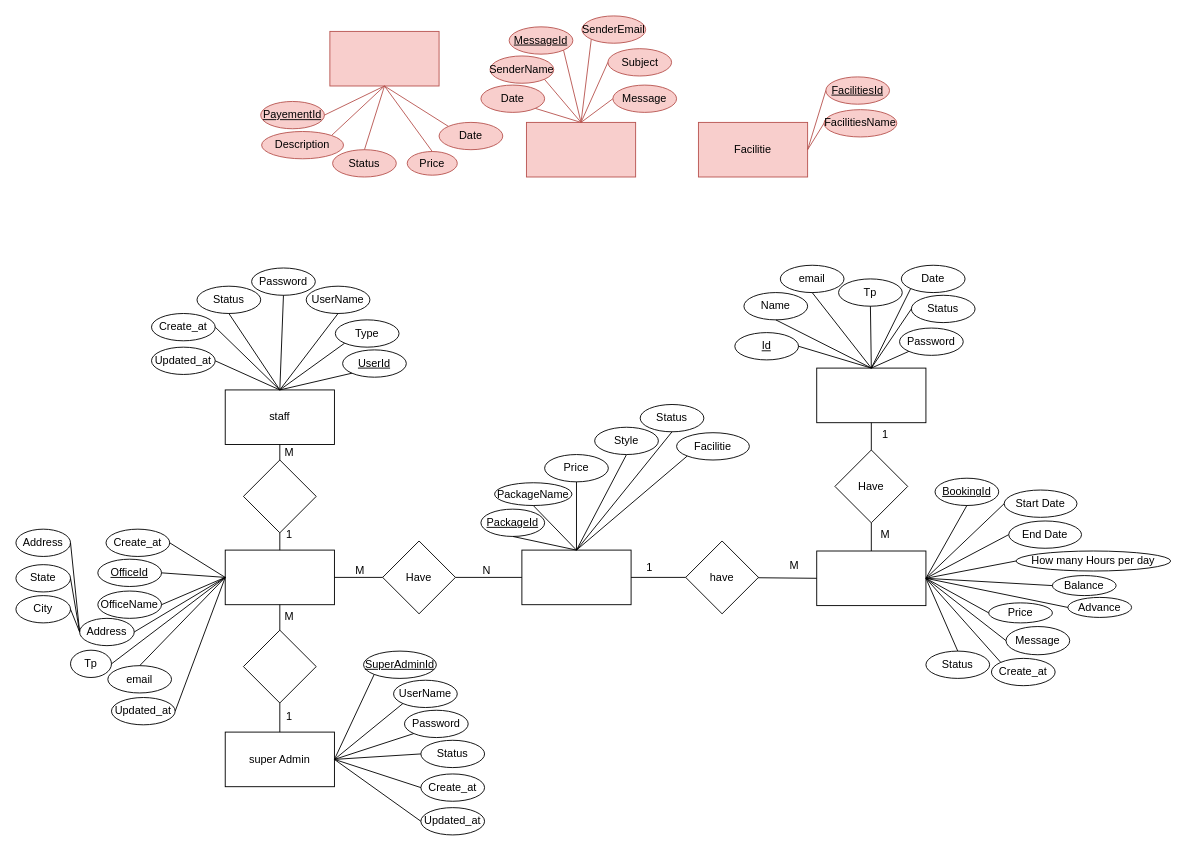
This 1187x851 diagram has some shape labels left out. Here are the shapes that lost their labels. From the top down, the box of each, then its label:
(329, 30, 439, 86): Payment
(526, 121, 636, 177): MessageEmail
(816, 367, 926, 423): Customer
(243, 459, 316, 533): has
(224, 549, 334, 605): Branch
(521, 549, 631, 605): Package
(816, 550, 926, 606): Booking
(243, 629, 316, 703): Handle
